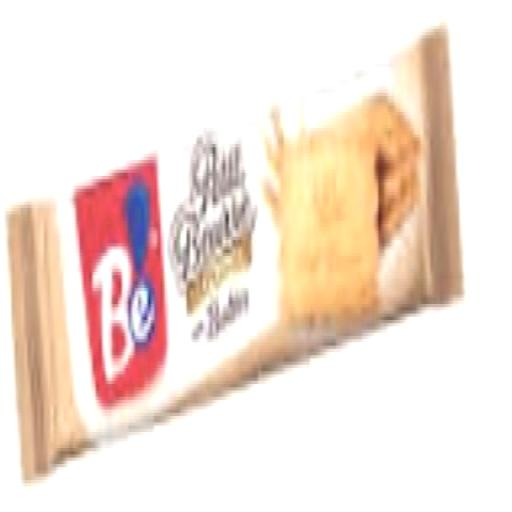petit-beurre: (0, 26, 464, 444)
